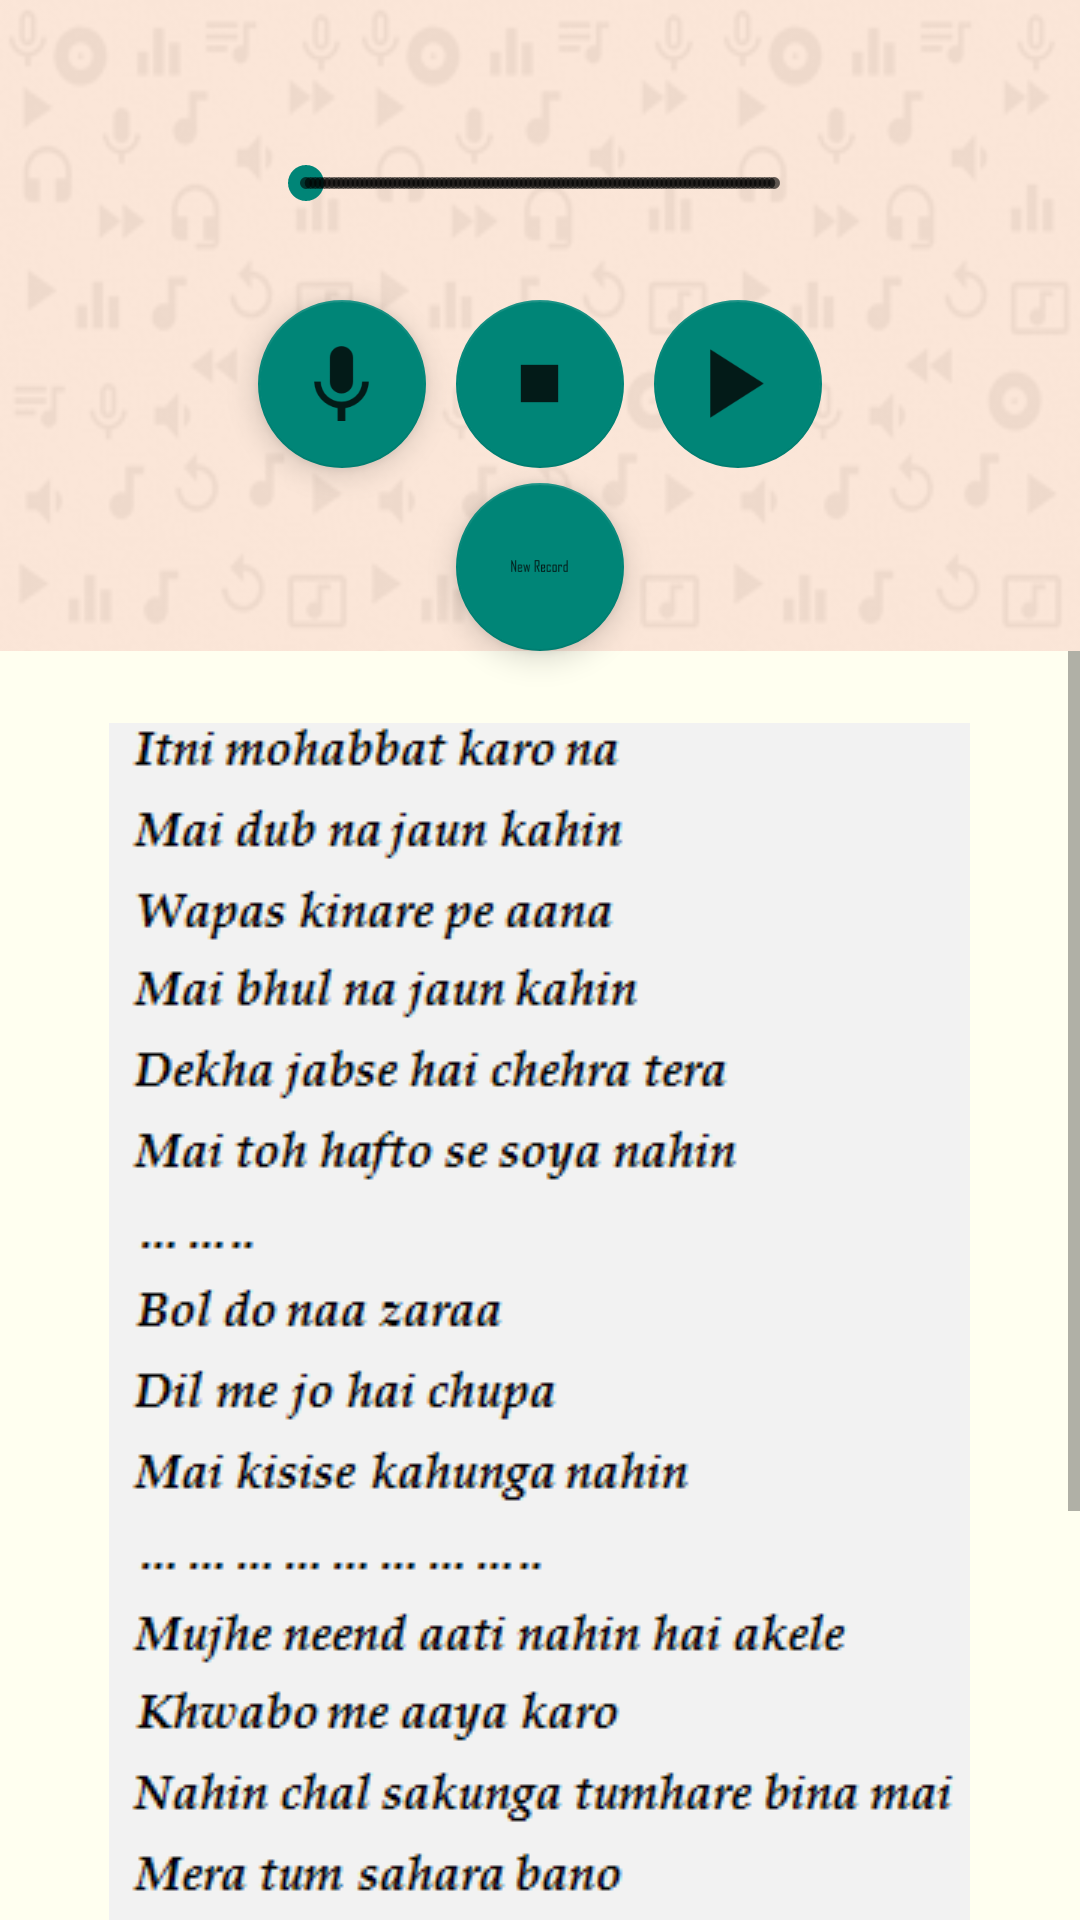

Locate icon controls on the screen. Image size 1080 x 1920, boxes as detection(x1, y1, x2, y2).
play: detection(654, 300, 822, 468)
stop: detection(456, 300, 624, 468)
